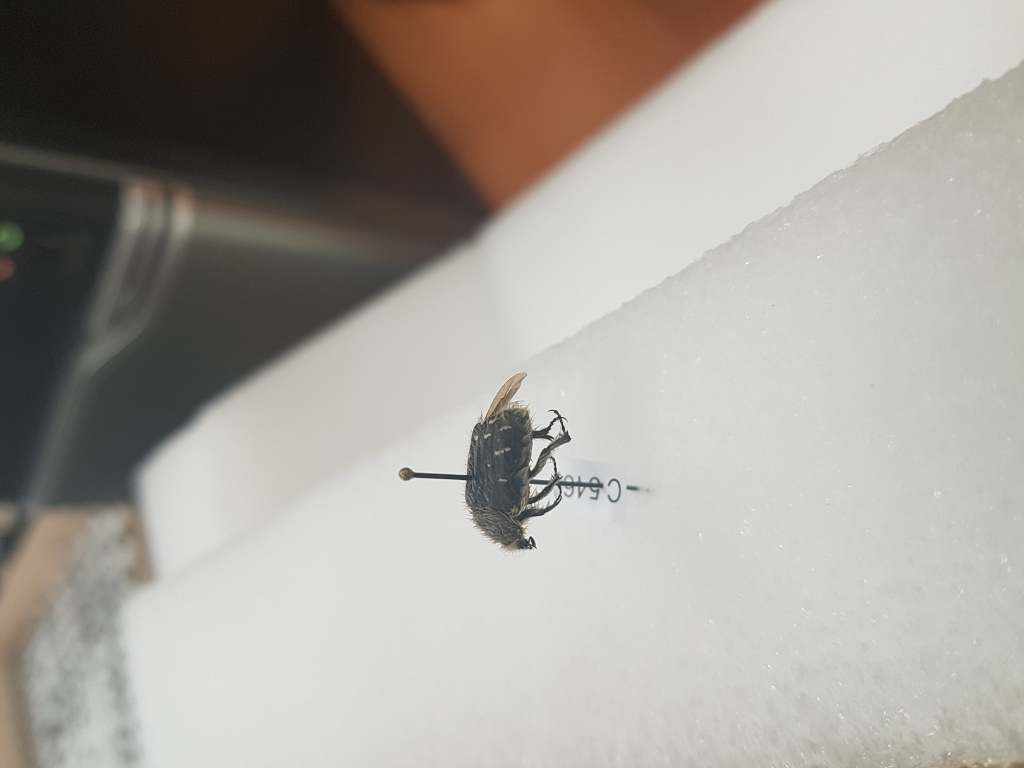Tropinota_senicula: (450, 374, 578, 556)
